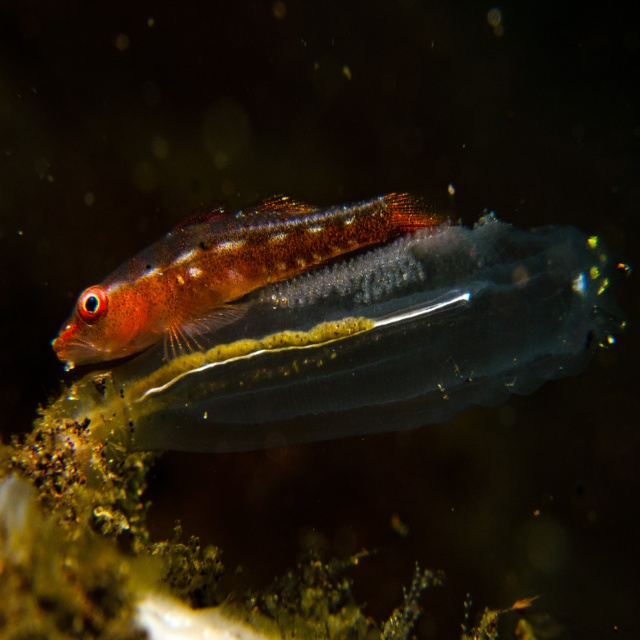Fish: (72, 180, 460, 395)
